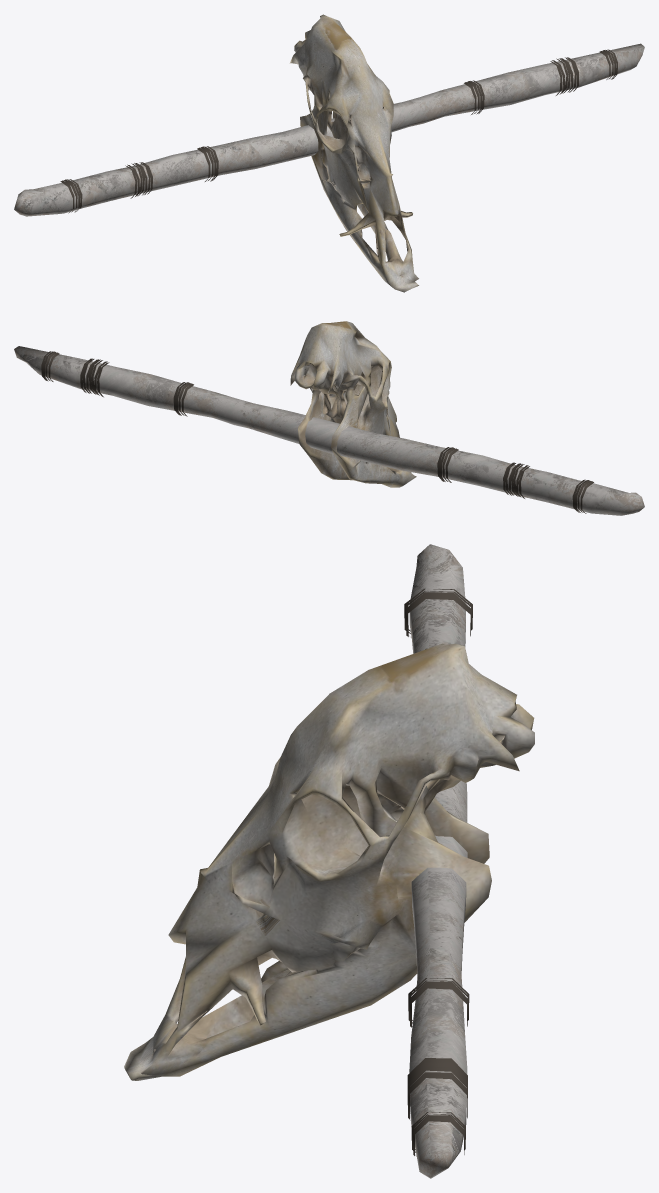
File: topping_0.glb
3 renders of one model, top to bottom at view 1: azimuth 30°, elevation 25°; view 2: azimuth 150°, elevation 25°; view 3: azimuth 270°, elevation 25°, orthographic. The views are drawn at different scales.
Parts seen in each view (by area): view 1: palka_1; view 2: palka_1; view 3: palka_1.
Boxes of the visible parts, x1=… form: palka_1: x1=14, y1=14, x2=644, y2=292; palka_1: x1=14, y1=321, x2=644, y2=515; palka_1: x1=124, y1=544, x2=534, y2=1178.
Size of the model in its own units: 84.59 by 27.89 by 24.04.
3 materials, 2 textured.
